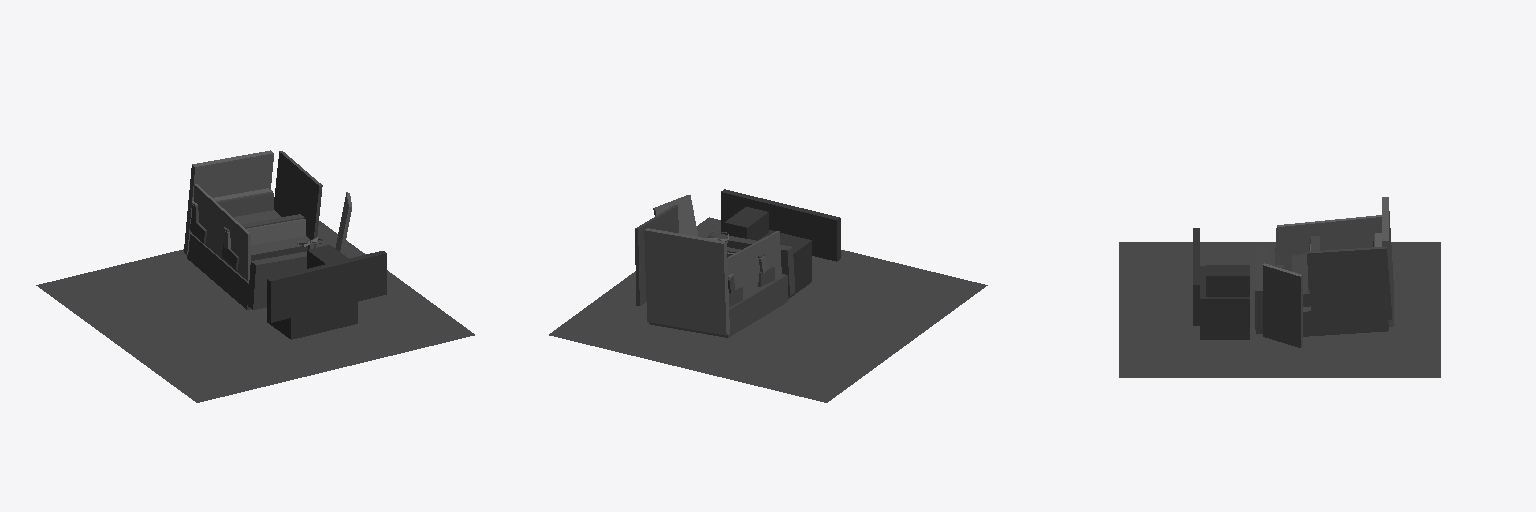
File: truck_spider11light.obj
The picture shows the model from 3 angles: view 1: azimuth 30°, elevation 25°; view 2: azimuth 150°, elevation 25°; view 3: azimuth 270°, elevation 25°; orthographic projection.
Visible parts, largest first — view 1: Plane.003, Cube.000_Cube.039, Cube.009, Cube.063, Cube.114, Cube.001_Cube.012, Cube.064, Cube.049, Cube.000_Cube.001, Cube.059, Cube.065, Cube.012_Cube.040 (+1 smaller); view 2: Plane.003, Cube.009, Cube.000_Cube.039, Cube.114, Cube.064, Cube.063, Cube.001_Cube.012, Cube.012_Cube.040, Cube.049, Cube.036; view 3: Plane.003, Cube.063, Cube.114, Cube.036, Cube.001_Cube.012, Cube.012_Cube.040, Cube.064, Cube.049, Cube.009, Cube.000_Cube.039.
Boxes of the visible parts, <box> form: Plane.003: <box>36,221,474,402</box>; Cube.000_Cube.039: <box>267,251,386,322</box>; Cube.009: <box>184,150,273,254</box>; Cube.063: <box>274,151,322,247</box>; Cube.114: <box>192,184,250,280</box>; Cube.001_Cube.012: <box>223,214,357,339</box>; Cube.064: <box>187,233,250,309</box>; Cube.049: <box>248,251,306,309</box>; Cube.000_Cube.001: <box>224,219,305,248</box>; Cube.059: <box>222,236,309,269</box>; Cube.065: <box>192,193,273,222</box>; Cube.012_Cube.040: <box>307,245,348,268</box>; Plane.003: <box>549,217,987,402</box>; Cube.009: <box>644,228,729,335</box>; Cube.000_Cube.039: <box>721,189,840,261</box>; Cube.114: <box>727,231,781,308</box>; Cube.064: <box>649,274,787,337</box>; Cube.063: <box>635,205,678,305</box>; Cube.001_Cube.012: <box>727,230,811,298</box>; Cube.012_Cube.040: <box>725,207,768,240</box>; Cube.049: <box>709,233,794,295</box>; Cube.036: <box>653,195,698,236</box>; Plane.003: <box>1119,242,1440,377</box>; Cube.063: <box>1307,247,1391,324</box>; Cube.114: <box>1275,215,1381,270</box>; Cube.036: <box>1263,263,1302,347</box>; Cube.001_Cube.012: <box>1200,236,1319,339</box>; Cube.012_Cube.040: <box>1206,265,1249,296</box>; Cube.064: <box>1291,271,1388,336</box>; Cube.049: <box>1255,247,1265,333</box>; Cube.009: <box>1382,197,1393,326</box>; Cube.000_Cube.039: <box>1193,228,1199,325</box>.
Size of the model in its own units: 8.46 by 3.14 by 8.46.